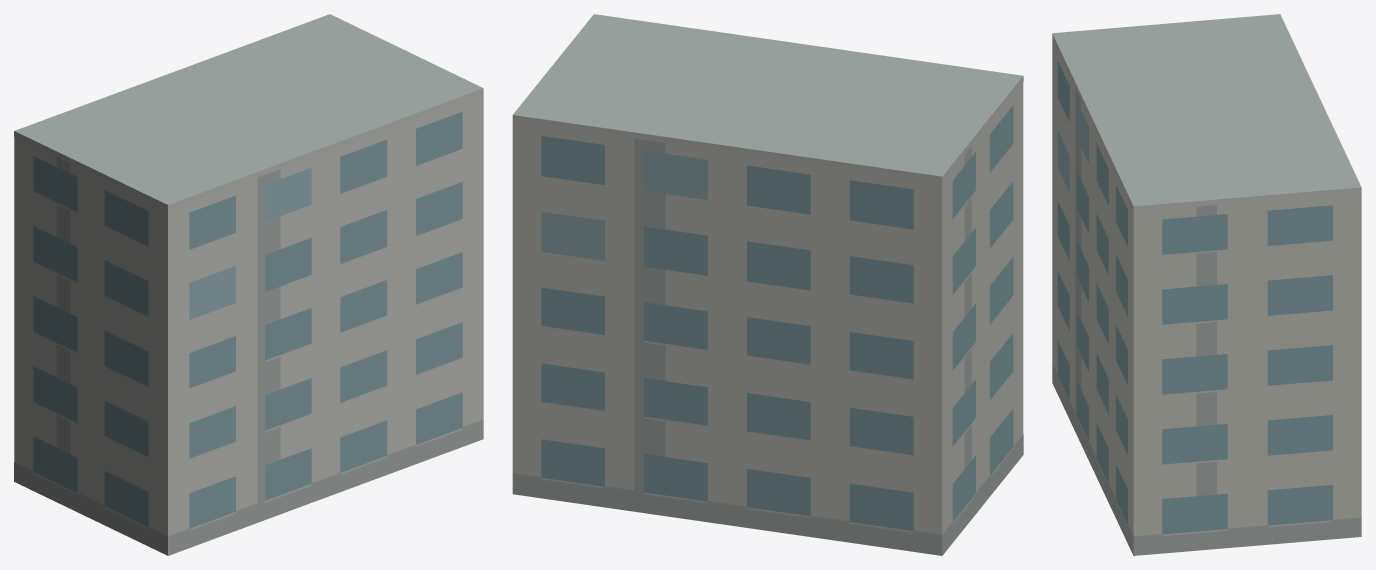
The model's file is residential-e6bcb0cd-e5b2-4876-872a-6e85d44b4bed.glb.
The picture shows the model from 3 angles, left to right: view 1: azimuth 30°, elevation 25°; view 2: azimuth 150°, elevation 25°; view 3: azimuth 270°, elevation 25°; orthographic projection. The views are drawn at different scales.
Parts seen in each view (by area): view 1: residential-e6bcb0cd-e5b2-4876-872a-6e85d44b4bed.tmp; view 2: residential-e6bcb0cd-e5b2-4876-872a-6e85d44b4bed.tmp; view 3: residential-e6bcb0cd-e5b2-4876-872a-6e85d44b4bed.tmp.
Boxes of the visible parts, left/top/right/bottom form: residential-e6bcb0cd-e5b2-4876-872a-6e85d44b4bed.tmp: left=14, top=14, right=483, bottom=555; residential-e6bcb0cd-e5b2-4876-872a-6e85d44b4bed.tmp: left=512, top=14, right=1023, bottom=555; residential-e6bcb0cd-e5b2-4876-872a-6e85d44b4bed.tmp: left=1052, top=14, right=1361, bottom=555.
Bounding box in the file's own units: 18.02 × 15.25 × 12.25.
